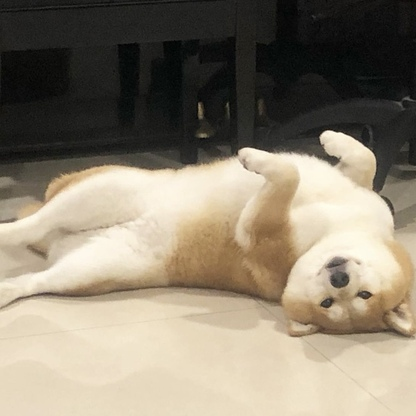shiba: (1, 117, 416, 347)
